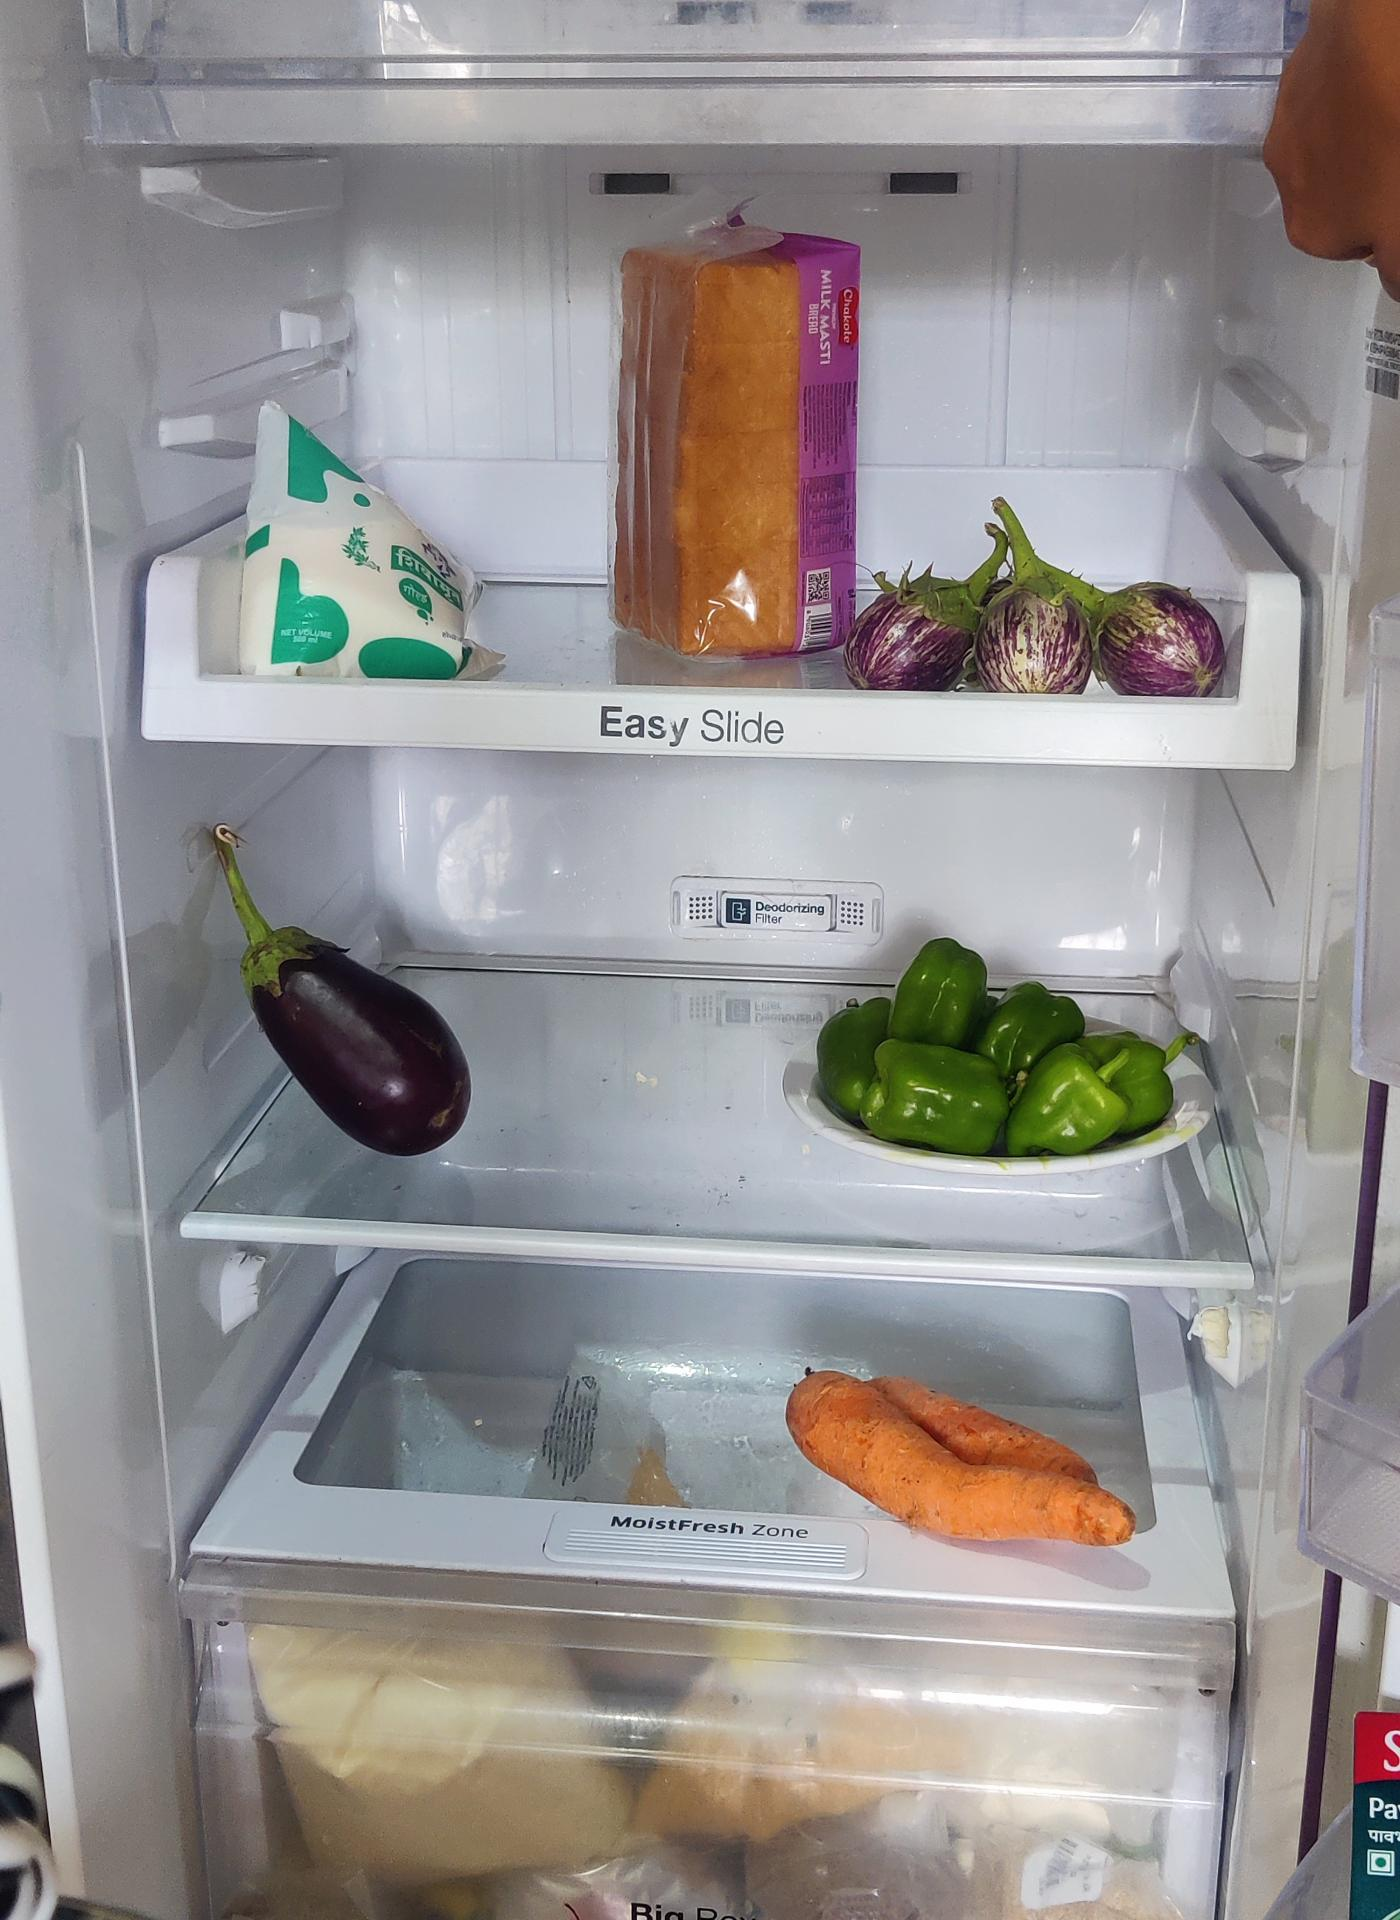bread: (608, 209, 863, 650)
brinjal: (201, 827, 473, 1160), (856, 473, 1218, 689)
capsicum: (799, 938, 1163, 1146)
carrots: (781, 1360, 1123, 1547)
milk: (245, 401, 479, 689)
